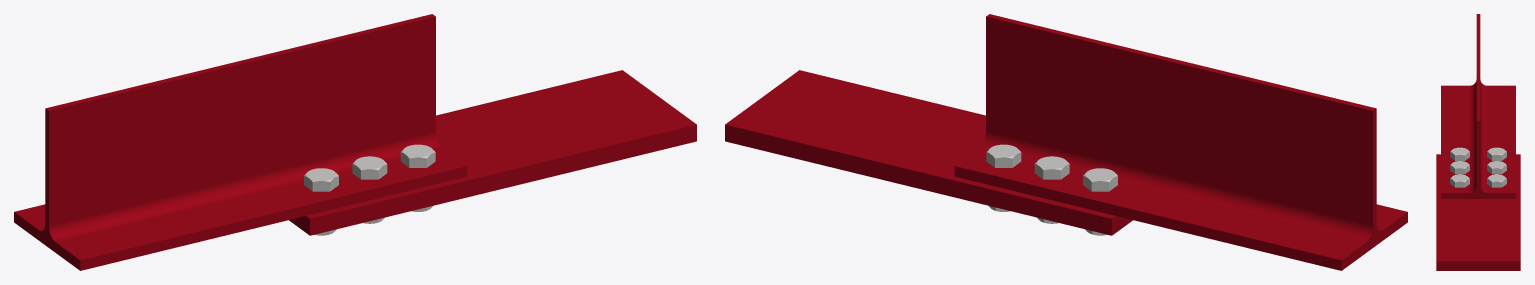
3 views of the same model, side by side, from view 1: azimuth 30°, elevation 25°; view 2: azimuth 150°, elevation 25°; view 3: azimuth 270°, elevation 25° (orthographic). The views are drawn at different scales.
Visible parts, largest first — view 1: WT8x25, PL1x8, WT8x25.001, Bolt; view 2: WT8x25, PL1x8, WT8x25.001, Bolt; view 3: PL1x8, WT8x25, WT8x25.001, Bolt.
Boxes of the visible parts, bbox=[...] form: WT8x25: bbox=[14, 14, 435, 270]; PL1x8: bbox=[289, 70, 696, 235]; WT8x25.001: bbox=[307, 131, 467, 207]; Bolt: bbox=[304, 144, 435, 235]; WT8x25: bbox=[986, 14, 1407, 270]; PL1x8: bbox=[725, 70, 1132, 235]; WT8x25.001: bbox=[954, 131, 1115, 207]; Bolt: bbox=[986, 144, 1117, 235]; PL1x8: bbox=[1436, 154, 1520, 270]; WT8x25: bbox=[1441, 14, 1515, 186]; WT8x25.001: bbox=[1441, 151, 1515, 198]; Bolt: bbox=[1450, 147, 1506, 187].
Size of the model in its own units: 0.9651 by 0.2581 by 0.2032.
